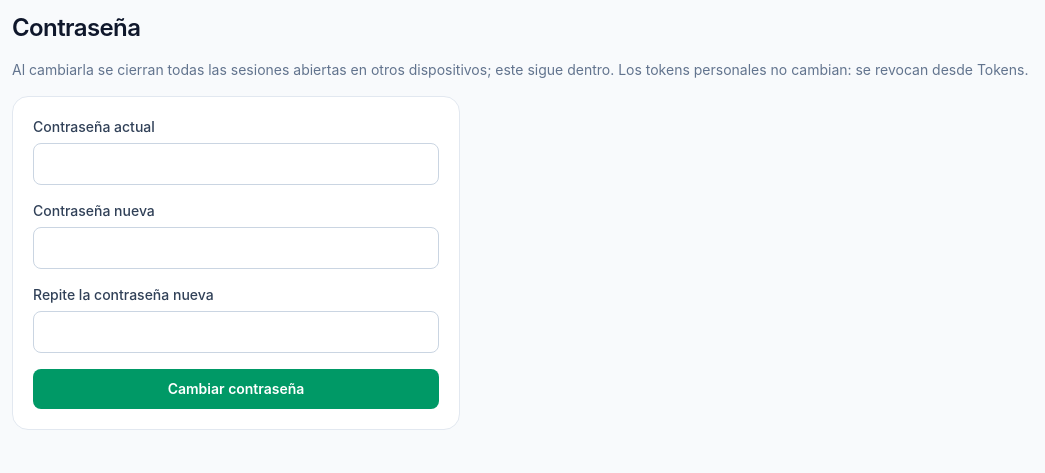
Test: PasswordPage › says so when the current password is wrong
Type "no-es-esta" into the password field labelled "Contraseña actual" at (236, 164), box [33, 143, 439, 185]
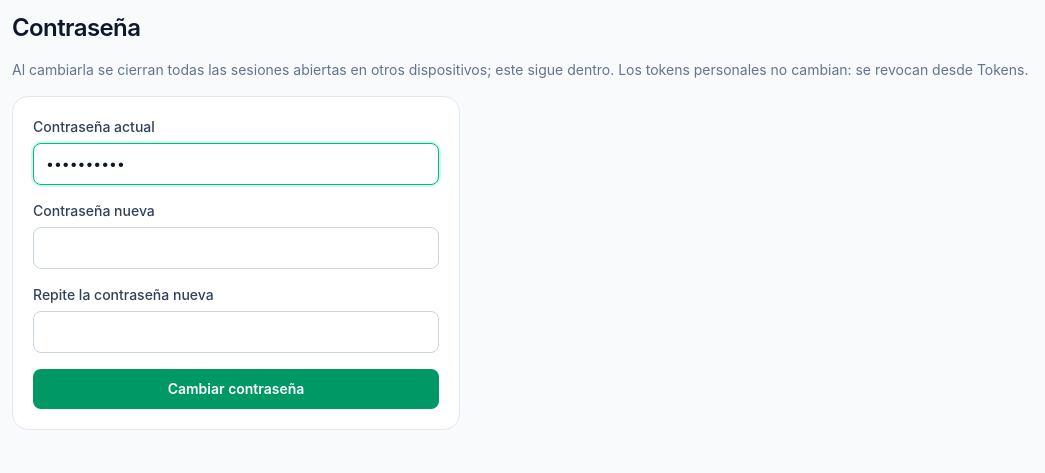
Type "una-mejor-clave" into the password field labelled "Contraseña nueva" at (236, 248), box [33, 227, 439, 269]
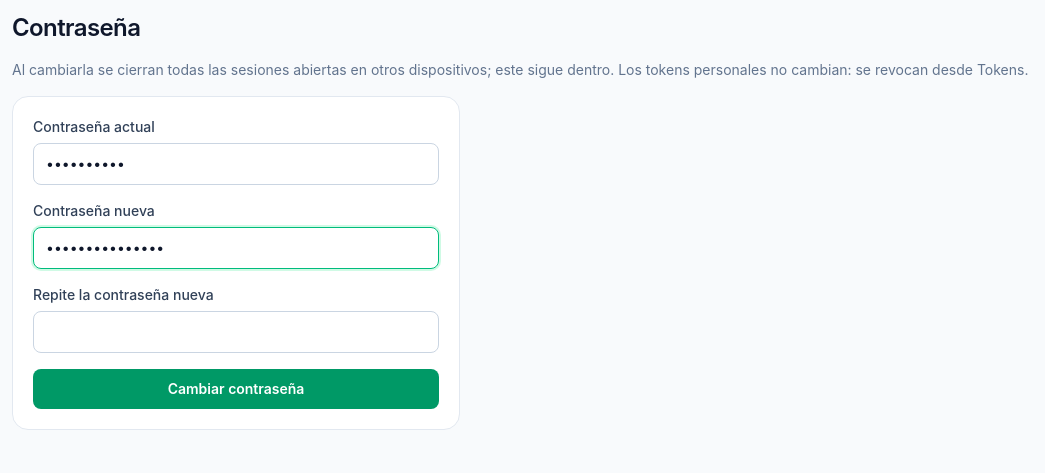
Type "una-mejor-clave" into the password field labelled "Repite la contraseña nueva" at (236, 332), box [33, 311, 439, 353]
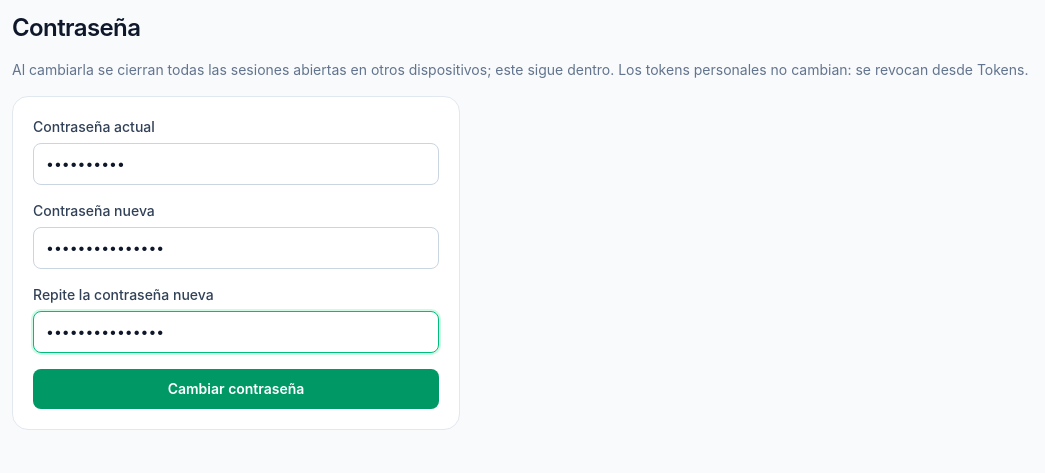
Click the button "Cambiar contraseña" at (236, 389), box [33, 369, 439, 409]
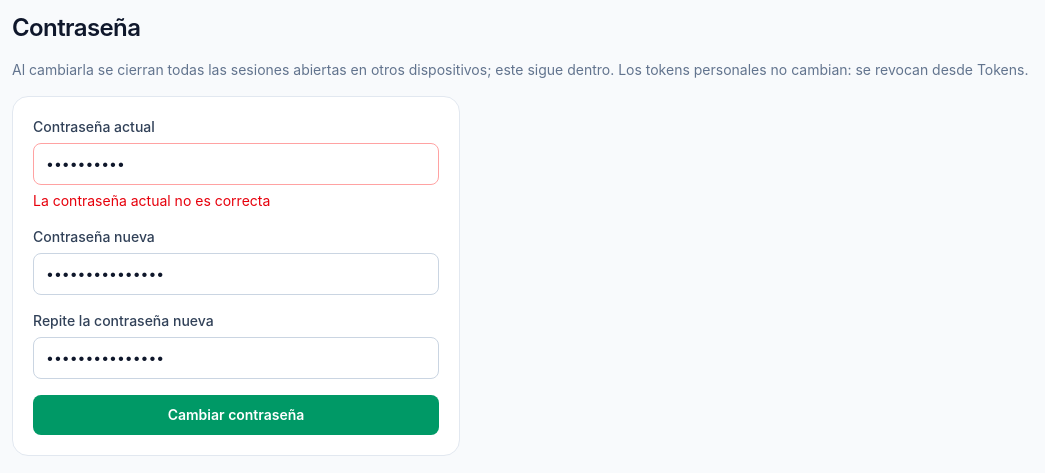
Expected: the text "La contraseña actual no es correcta" is shown, [33, 192, 270, 209]
